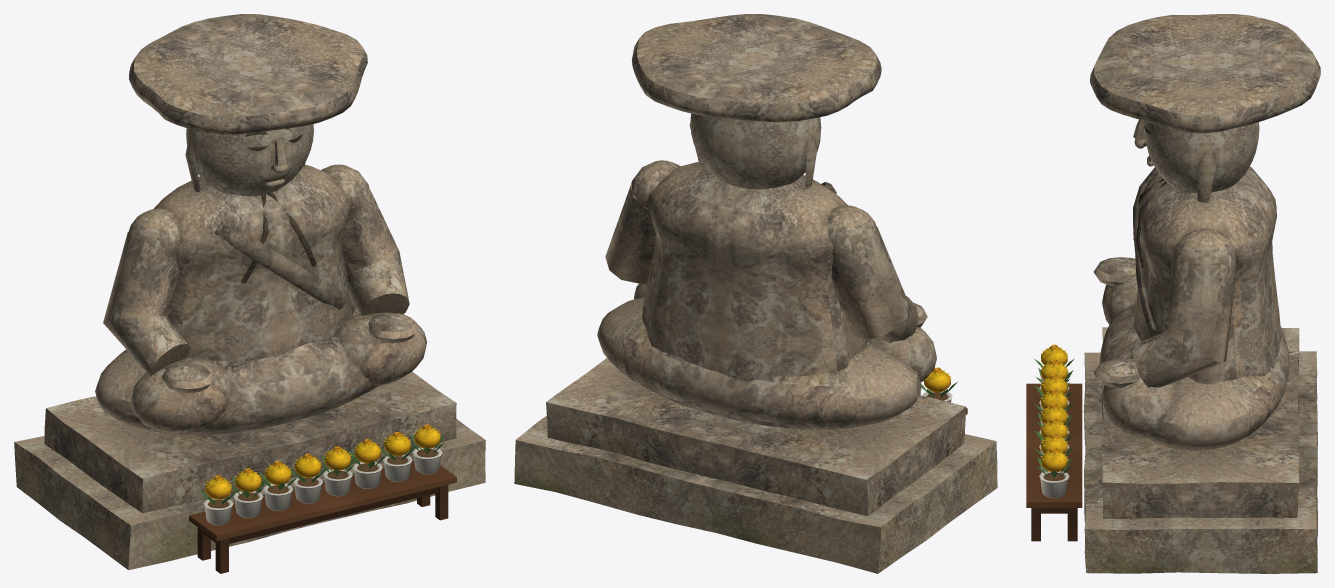
Rendered from gatbawi.glb.
3 renders of one model, left to right at view 1: azimuth 30°, elevation 25°; view 2: azimuth 150°, elevation 25°; view 3: azimuth 270°, elevation 25°, orthographic. The views are drawn at different scales.
Parts seen in each view (by area): view 1: figure, pedestal, hatStone, offerings; view 2: figure, pedestal, hatStone, offerings; view 3: figure, pedestal, hatStone, offerings.
Boxes of the visible parts, x1,y1,x2,y2 form: figure: [95, 124, 426, 434]; pedestal: [14, 371, 485, 570]; hatStone: [129, 14, 367, 134]; offerings: [189, 424, 456, 573]; figure: [597, 113, 936, 429]; pedestal: [514, 358, 997, 573]; hatStone: [631, 14, 881, 122]; offerings: [919, 367, 967, 414]; figure: [1093, 119, 1289, 450]; pedestal: [1083, 327, 1317, 573]; hatStone: [1090, 14, 1320, 133]; offerings: [1026, 344, 1082, 541].
Size of the model in its own units: 3.43 by 3.9 by 2.41.
2 materials, 1 textured.
